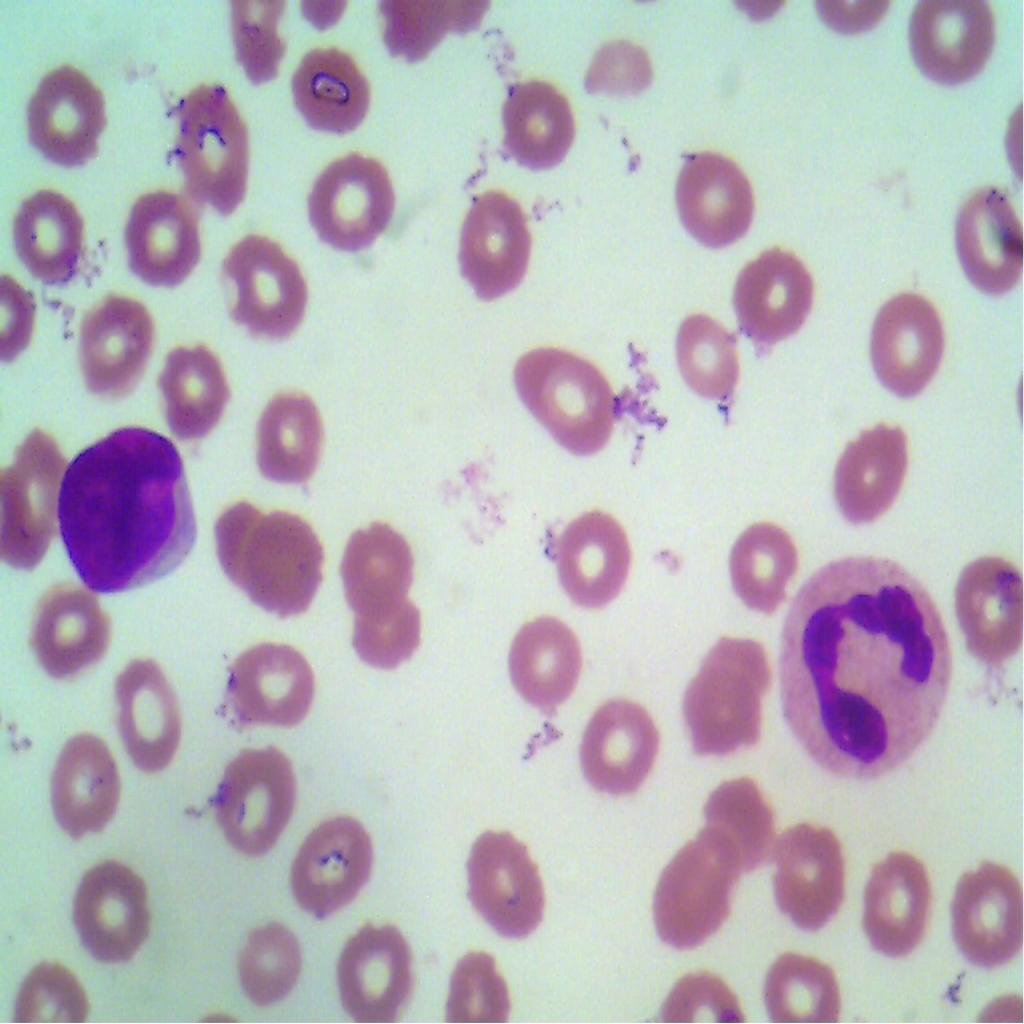Eritrosit: (170, 78, 258, 219), (828, 409, 930, 530), (882, 0, 1006, 97), (302, 148, 398, 272), (215, 637, 321, 749), (110, 646, 192, 788), (206, 732, 298, 858), (69, 284, 158, 414), (223, 230, 326, 342), (948, 172, 1023, 325), (116, 191, 214, 308), (514, 352, 618, 458), (648, 828, 738, 950), (456, 815, 543, 939), (286, 794, 372, 918), (324, 911, 415, 1023), (569, 685, 658, 797), (26, 54, 108, 175), (766, 818, 846, 942), (41, 734, 123, 854), (69, 851, 156, 964), (861, 288, 951, 397), (675, 144, 756, 263), (506, 612, 592, 724), (949, 548, 1023, 678), (0, 439, 68, 578), (290, 37, 381, 139), (35, 575, 111, 695), (234, 900, 308, 1022), (730, 245, 814, 351), (555, 506, 634, 616), (246, 514, 330, 616), (939, 862, 1023, 962), (336, 509, 409, 624), (863, 847, 936, 959), (464, 178, 529, 298), (11, 191, 91, 288), (146, 334, 224, 432), (753, 942, 846, 1023), (346, 584, 426, 678), (255, 384, 328, 485), (500, 79, 574, 178), (701, 765, 776, 862), (723, 512, 799, 605), (684, 660, 761, 751), (673, 305, 743, 402), (6, 958, 102, 1023), (444, 948, 518, 1023), (702, 625, 770, 701), (218, 494, 272, 580)
Limfoblast: (59, 412, 195, 597)
Neutrofil: (774, 550, 958, 778)
